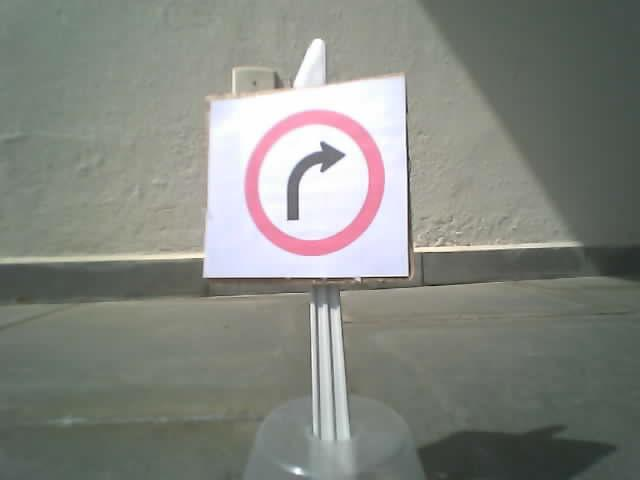R-25b_direita: (243, 108, 384, 255)
